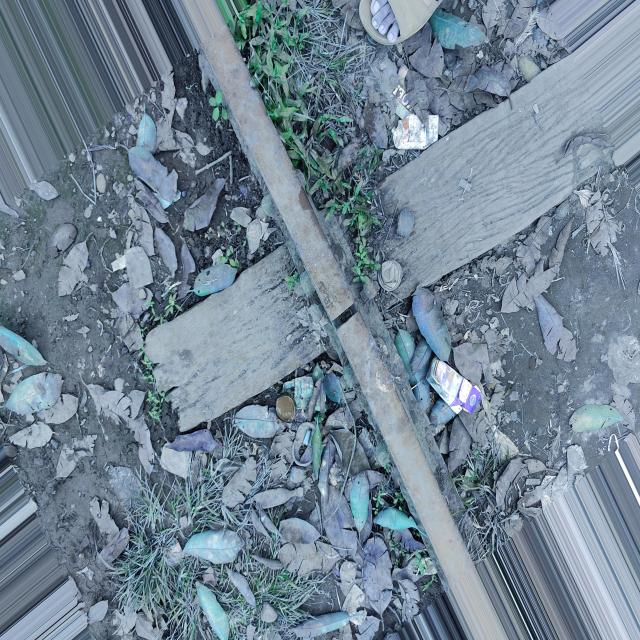crack: (322, 292, 380, 346)
